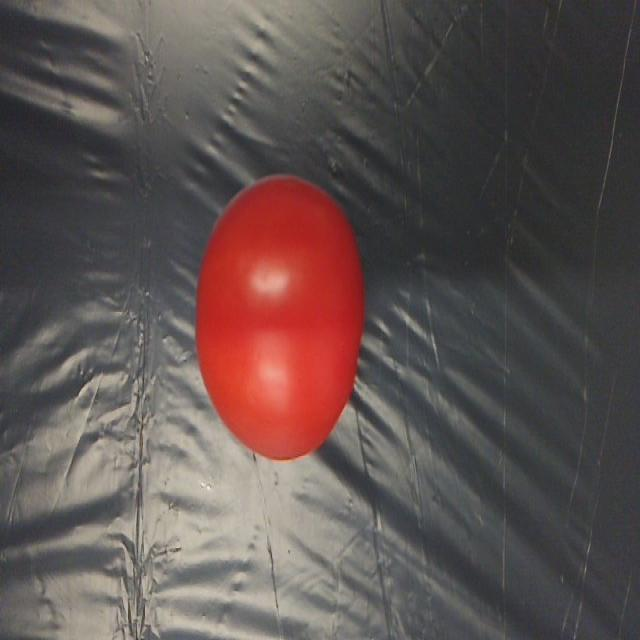kirmizi: (188, 156, 372, 463)
